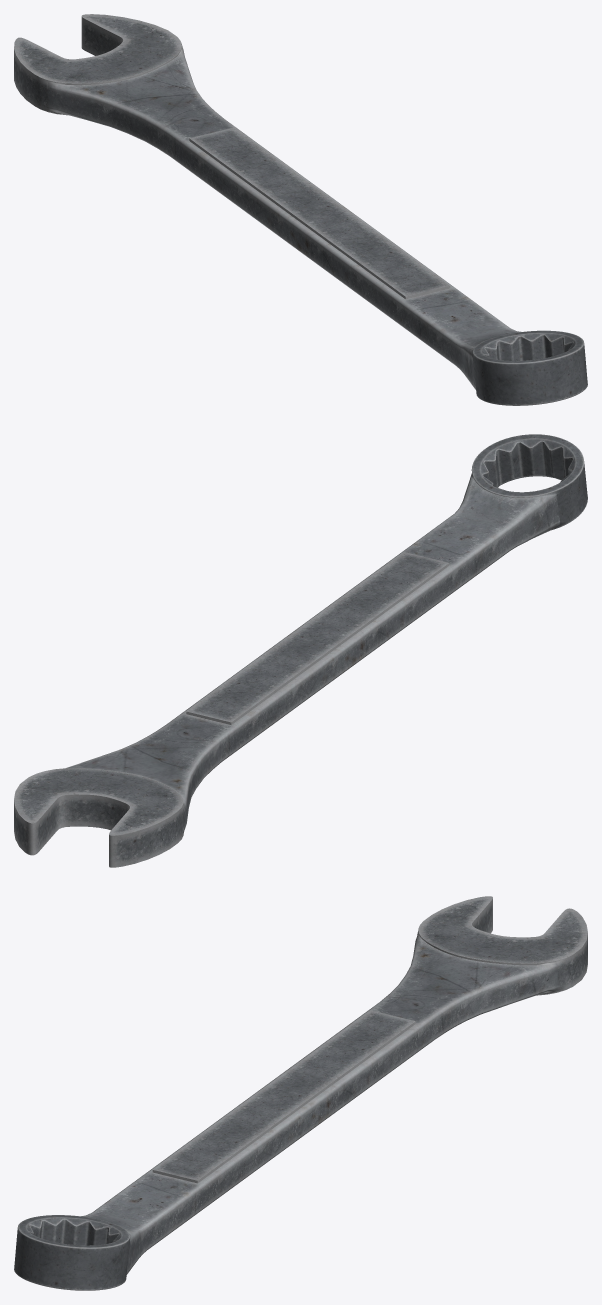
File: combination_wrench.glb
The picture shows the model from 3 angles, top to bottom: view 1: azimuth 30°, elevation 25°; view 2: azimuth 150°, elevation 25°; view 3: azimuth 330°, elevation 25°; orthographic projection.
Visible parts, largest first — view 1: combination_wrench; view 2: combination_wrench; view 3: combination_wrench.
Boxes of the visible parts, <box> form: combination_wrench: <box>14,14,587,405</box>; combination_wrench: <box>14,434,587,867</box>; combination_wrench: <box>14,896,587,1290</box>.
Size of the model in its own units: 0.0566 by 0.0215 by 0.337.
1 material, 1 textured.
